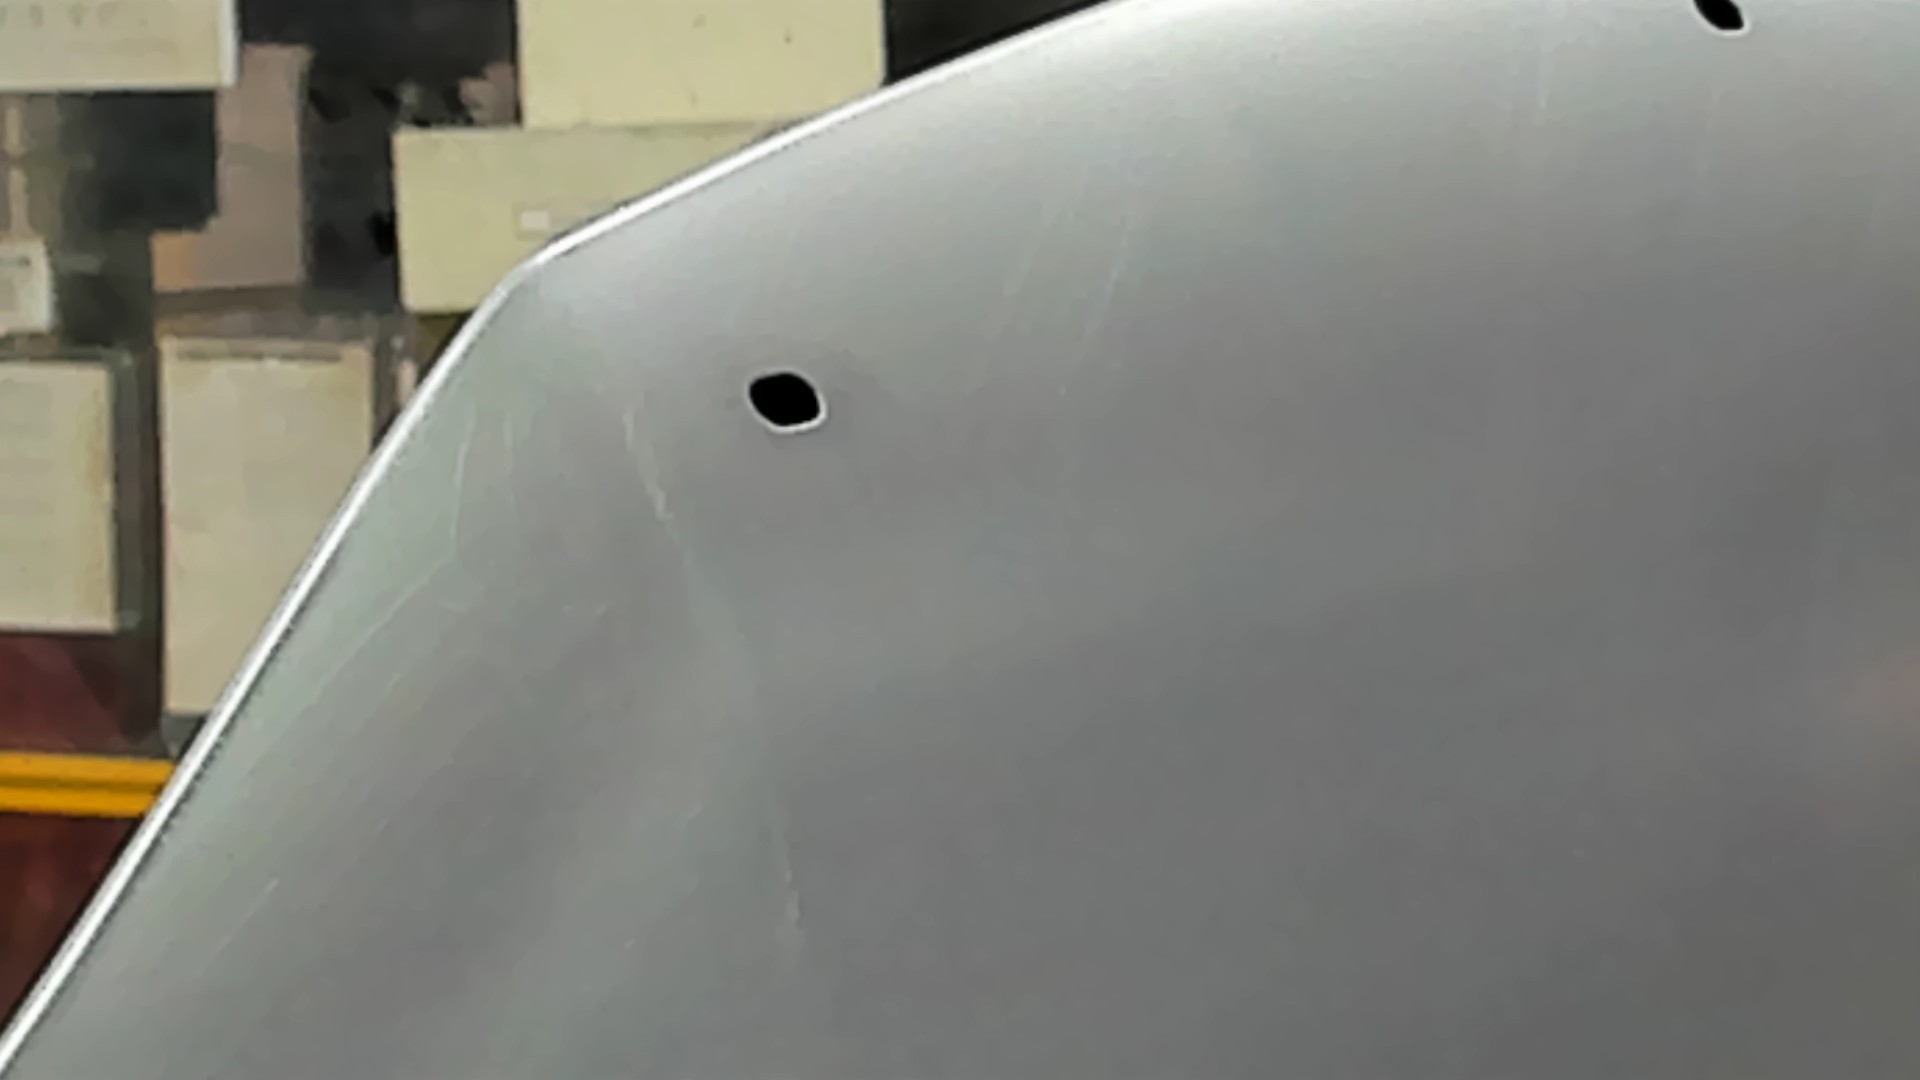amorfo: (738, 365, 833, 438), (1692, 1, 1754, 44)
capo: (943, 120, 1920, 1080)
